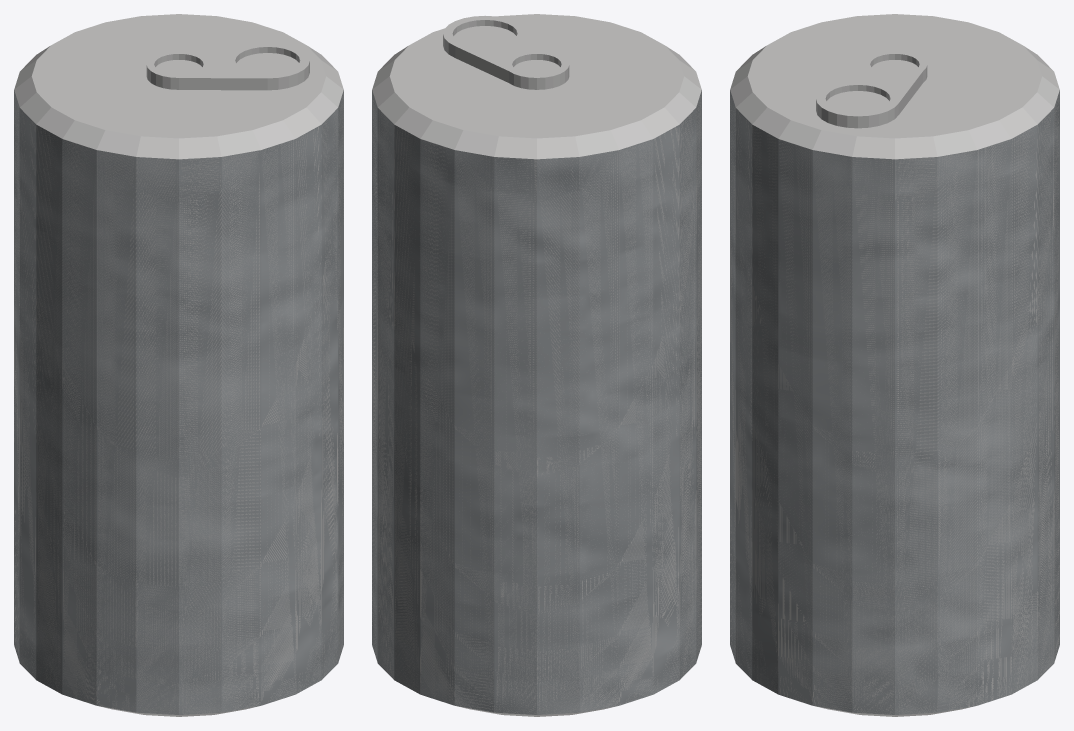
The picture shows the model from 3 angles, left to right: view 1: azimuth 30°, elevation 25°; view 2: azimuth 150°, elevation 25°; view 3: azimuth 270°, elevation 25°; orthographic projection.
Parts seen in each view (by area): view 1: mesh1_mesh1-geometry; view 2: mesh1_mesh1-geometry; view 3: mesh1_mesh1-geometry.
Boxes of the visible parts, x1,y1,x2,y2 form: mesh1_mesh1-geometry: (14, 14, 343, 716); mesh1_mesh1-geometry: (372, 14, 701, 716); mesh1_mesh1-geometry: (730, 14, 1059, 716).
Bounding box in the file's own units: 0.4089 × 0.8158 × 0.4089.
